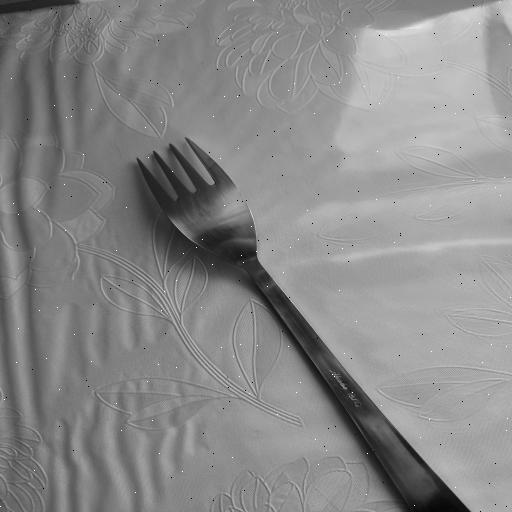fork: (134, 136, 478, 512)
